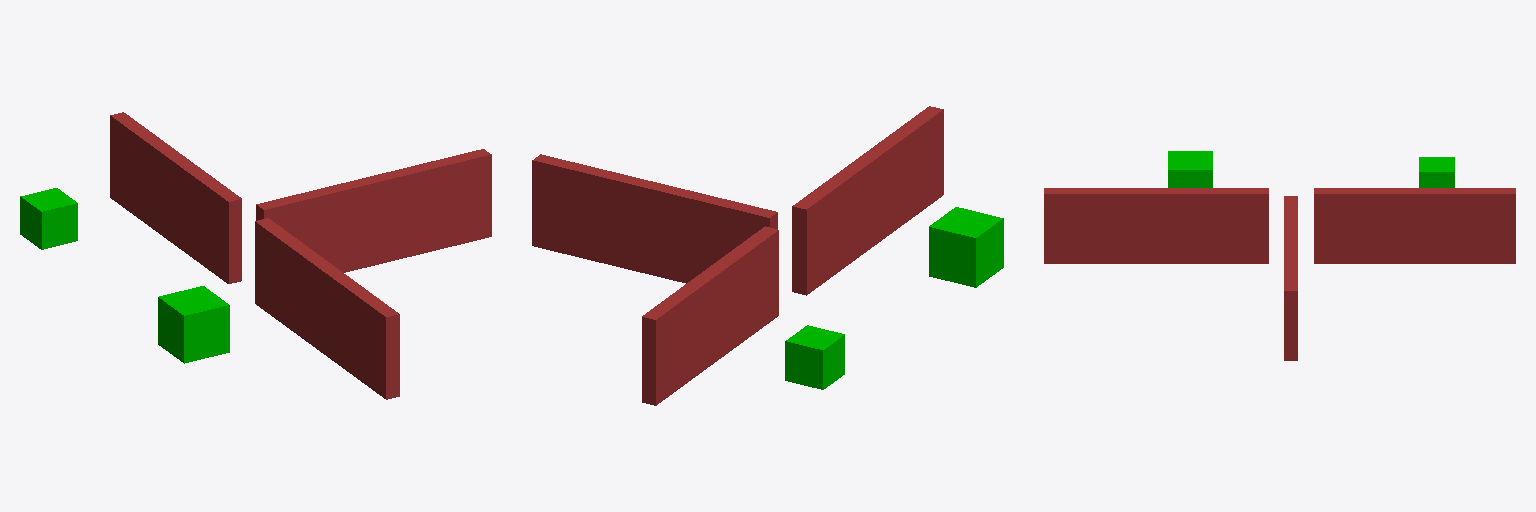
The robot description file, URDF, robot "maze1":
<?xml version="1.0"?>
  <robot name="maze1">
    <link name="base_link"/>

    <link name="table">
      <visual>
        <geometry>
          <mesh filename="[local-path]/rb_ws/src/robowflex/robowflex_dart/include/io/envs/meshes/maze1.dae" scale = " 0.50 0.50 0.50"/>
        </geometry>
        <origin rpy="0 0 0" xyz="0 0 0" />

<material name = "">
  <color rgba="0.87450980392 0.87450980392 0.87058823529 1.0"/>
      </material>
      </visual>
      <collision concave="yes" name="collision_mesh_2">
        <geometry>
          <mesh filename="[local-path]/rb_ws/src/robowflex/robowflex_dart/include/io/envs/meshes/maze1.dae" scale = " 0.50 0.50 0.50"/>
        </geometry>
        <origin rpy="0 0 0" xyz="0 0 0" />       
       </collision>
    </link>

    <link name="link_0">
      <visual>
        <geometry>
          <box size="0.1 0.1 0.1"/>
        </geometry>
        <origin rpy="0 0 0" xyz="0 0 0" />
      <material name = "">
          <color rgba="0.0 0.8 0.0 1.0"/>
      </material>
      </visual>
      <collision>
        <geometry>
          <box size="0.1 0.1 0.1"/>
        </geometry>
        <origin rpy="0 0 0" xyz="0 0 0" />       
       </collision>
    </link>


    <link name="cube2">
      <visual>
        <geometry>
          <box size="0.08 0.08 0.08"/>
        </geometry>
        <origin rpy="0 0 0" xyz="0 0 0" />
      <material name = "">
          <color rgba="0.0 0.8 0.0 0.4"/>
      </material>
      </visual>
    </link>



     <link name="link_1">
      <visual>
        <geometry>
          <box size="0.03 0.5 0.173"/>
        </geometry>
        <origin rpy="0 0 0" xyz="0.0 0.25 0" />
        <material name = "">
          <color rgba="0.6901 0.2509 0.2509 1.0"/>
      </material>
      </visual>
      <collision>
        <geometry>  
          <box size="0.03 0.5 0.173"/>
        </geometry>
        <origin rpy="0 0 0" xyz="0.0 0.25 0" />       
       </collision>
    </link>

     <link name="link_2">
      <visual>
      <origin rpy="0 0 0" xyz="0 -0.225 0" />
        <geometry>
          <box size="0.03 0.5 0.173"/>
        </geometry>
             <material name = "">
          <color rgba="0.6901 0.2509 0.2509 1.0"/>
      </material>
      </visual>
      <collision>       
        <geometry>  
          <box size="0.03 0.5 0.173"/>
        </geometry>
        <origin rpy="0 0 0" xyz="0 -0.225 0" />
       </collision>
    </link>

     <link name="link_3">
      <visual>
      <origin rpy="0 0 0" xyz="0 0.225 0" />
        <geometry>
          <box size="0.03 0.45 0.173"/>
        </geometry>
             <material name = "">
          <color rgba="0.6901 0.2509 0.2509 1.0"/>
      </material>
      </visual>
      <collision>       
        <geometry>  
          <box size="0.03 0.45 0.173"/>
        </geometry>
        <origin rpy="0 0 0" xyz="0 0.225 0" />
       </collision>
    </link>


  <link name ="cube_x"/>

<joint name="table_j" type="fixed">
    <origin rpy="0 0 0" xyz="0.75 -0.6 0.23" />
    <parent link="base_link" />
    <child link="table" />
  </joint>



<joint name="goal" type="fixed">
    <origin rpy="0 0 0" xyz="0.5 -0.25 0.75" />
    <parent link="base_link" />
    <child link="cube2" />
  </joint>


<joint name="link_0_joint_0" type="prismatic">
    <origin rpy="0 0 0" xyz="0.50 -0.8 0.75" />
    <parent link="base_link" />
    <child link="cube_x" />
   <axis xyz="0 1 0" />
  <limit lower="0.0" upper="0.65" effort="0.05" velocity="1.57"/>
  </joint>


<joint name="link_0_joint_1" type="prismatic">
    <origin rpy="0 0 0" xyz="0.0 0 0.0" />
    <parent link="cube_x" />
    <child link="link_0" />
   <axis xyz="1 0 0" />
  <limit lower="-0.2" upper="0.7" effort="0.05" velocity="1.57"/>
  </joint>

  <joint name="link_1_joint_0" type="revolute">
      <origin rpy="0 0 0" xyz="0.75 -1.125 0.755"/>
      <parent link="base_link"/>
      <child link="link_1"/>
      <axis xyz="0 0 1"/>
      <limit lower="-1.57" upper="1.57" effort="5" velocity="1.57"/>
  </joint>

  <joint name="link_2_joint_0" type="revolute">
      <origin rpy="0 0 -1.57" xyz="1.25 -0.575 0.755"/>
      <parent link="base_link"/>
      <child link="link_2"/>
      <axis xyz="0 0 1"/>
      <limit lower="-1.57" upper="1.57" effort="5" velocity="1.57"/>
  </joint>


  <joint name="link_3_joint_0" type="revolute">
      <origin rpy="0 0 0" xyz="0.75 -0.525 0.755"/>
      <parent link="base_link"/>
      <child link="link_3"/>
      <axis xyz="0.0 0.0 1"/>
      <limit lower="-1.57" upper="1.57" effort="5" velocity="1.57"/>
  </joint>

</robot>

--- Facts derived from the render (not from the file) ---
3 views of the same robot in one strip: view 1: azimuth 30°, elevation 25°; view 2: azimuth 150°, elevation 25°; view 3: azimuth 270°, elevation 25° (orthographic).
Robot: maze1 — 8 links, 7 joints (3 revolute, 2 prismatic, 2 fixed); root link base_link; default pose: all joints at 0.
Links seen in each view (by area): view 1: link_2, link_1, link_3, link_0, cube2; view 2: link_2, link_1, link_3, link_0, cube2; view 3: link_1, link_3, link_2, link_0, cube2.
Boxes of the visible links, x1=… form: link_2: x1=256, y1=149, x2=491, y2=272; link_1: x1=255, y1=218, x2=399, y2=399; link_3: x1=110, y1=112, x2=241, y2=283; link_0: x1=158, y1=286, x2=229, y2=363; cube2: x1=20, y1=188, x2=77, y2=249; link_2: x1=532, y1=154, x2=777, y2=283; link_1: x1=792, y1=106, x2=943, y2=295; link_3: x1=642, y1=226, x2=778, y2=405; link_0: x1=929, y1=207, x2=1003, y2=287; cube2: x1=785, y1=325, x2=844, y2=389; link_1: x1=1044, y1=188, x2=1268, y2=263; link_3: x1=1314, y1=188, x2=1515, y2=263; link_2: x1=1284, y1=196, x2=1297, y2=360; link_0: x1=1168, y1=151, x2=1212, y2=187; cube2: x1=1419, y1=157, x2=1454, y2=187.
Bounding box of the posed robot: 0.825 × 1.05 × 0.173 m (x, y, z).
Geometry: only primitive shapes (box / cylinder / sphere) drawn; not drawn: 1 mesh visual (reference in a form the renderer does not follow).